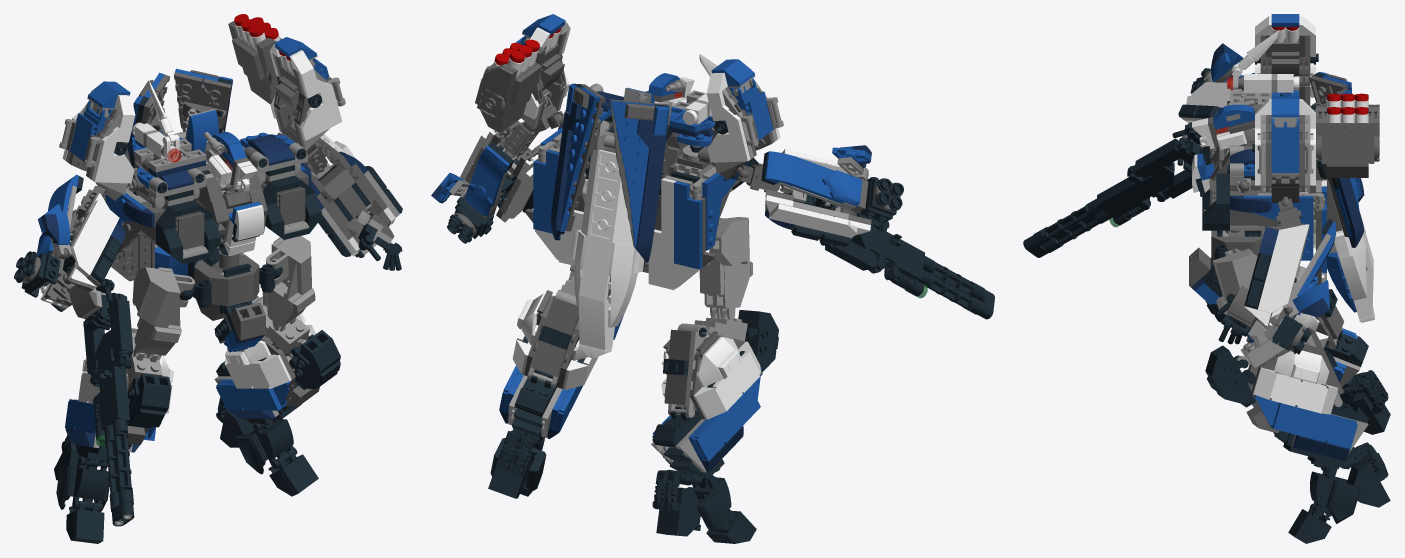
File: afc-01h-legioss-battroid.dae
3 renders of one model, left to right at view 1: azimuth 30°, elevation 25°; view 2: azimuth 150°, elevation 25°; view 3: azimuth 270°, elevation 25°, orthographic. The views are drawn at different scales.
Size of the model in its own units: 643 by 531 by 698.
